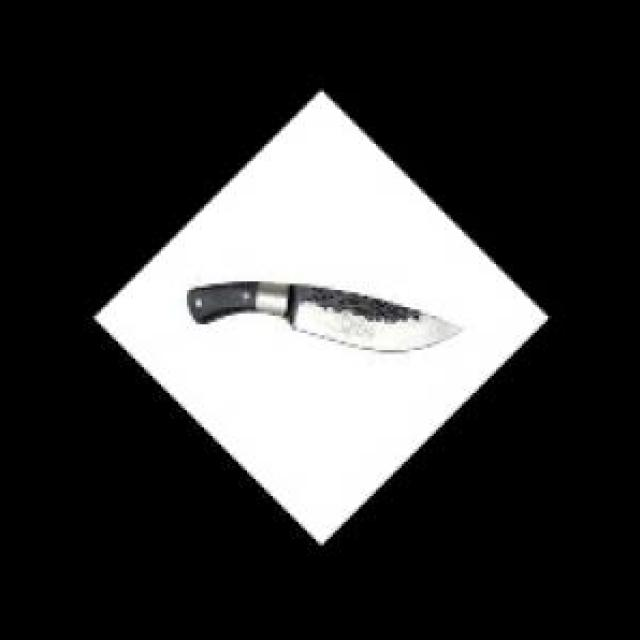knife: (185, 284, 472, 354)
